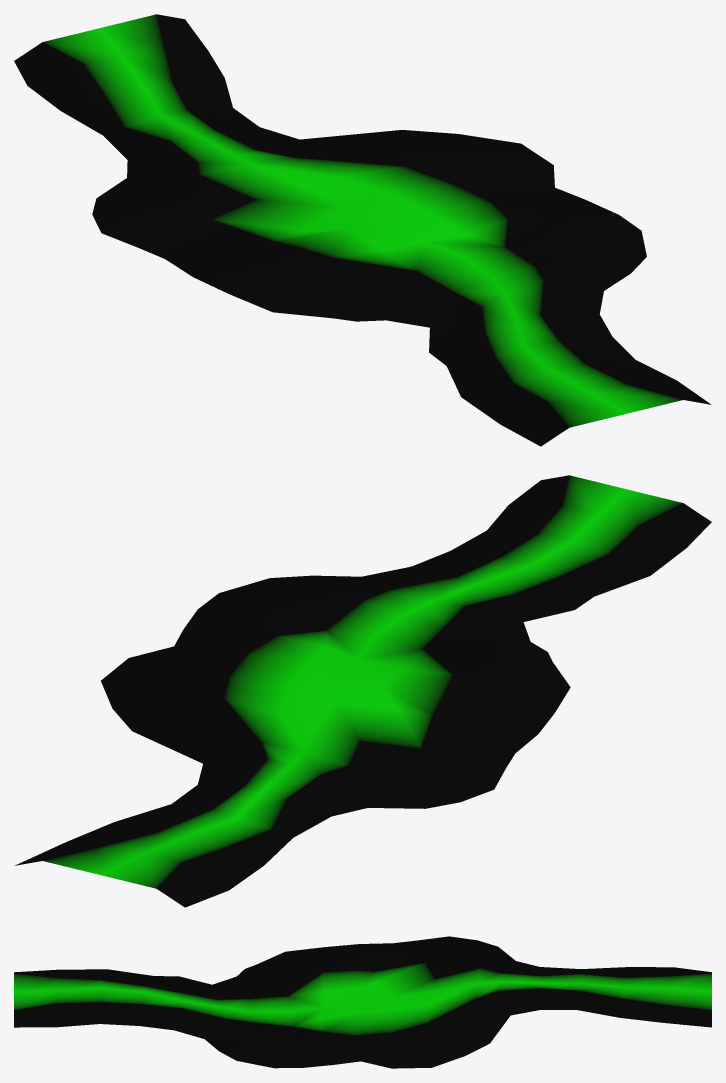
Rendered from Section_MiniBossWayLine01_Swamp_Terrain.fbx.
The picture shows the model from 3 angles, top to bottom: view 1: azimuth 30°, elevation 25°; view 2: azimuth 150°, elevation 25°; view 3: azimuth 270°, elevation 25°; orthographic projection. The views are drawn at different scales.
Parts seen in each view (by area): view 1: Section_MiniBossWayLine01_Swamp_Terrain; view 2: Section_MiniBossWayLine01_Swamp_Terrain; view 3: Section_MiniBossWayLine01_Swamp_Terrain.
Boxes of the visible parts, left/top/right/bottom form: Section_MiniBossWayLine01_Swamp_Terrain: left=14, top=14, right=711, bottom=446; Section_MiniBossWayLine01_Swamp_Terrain: left=15, top=475, right=711, bottom=907; Section_MiniBossWayLine01_Swamp_Terrain: left=14, top=936, right=711, bottom=1068.
Size of the model in its own units: 3585 by 100 by 8000.
